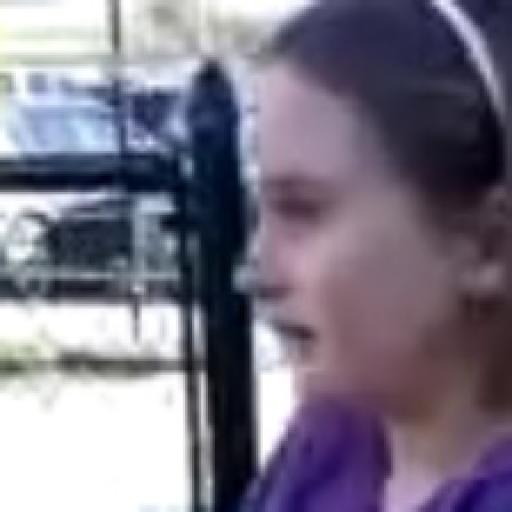Autism: (196, 4, 512, 467)
